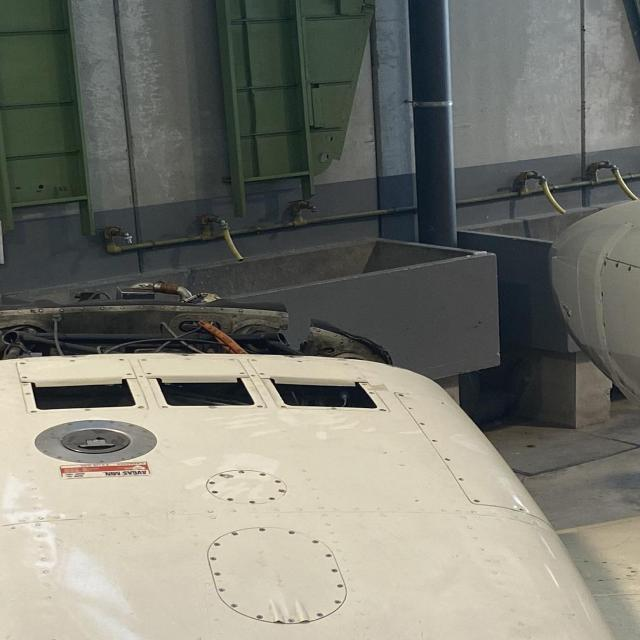Paint-off: (220, 472, 238, 483)
